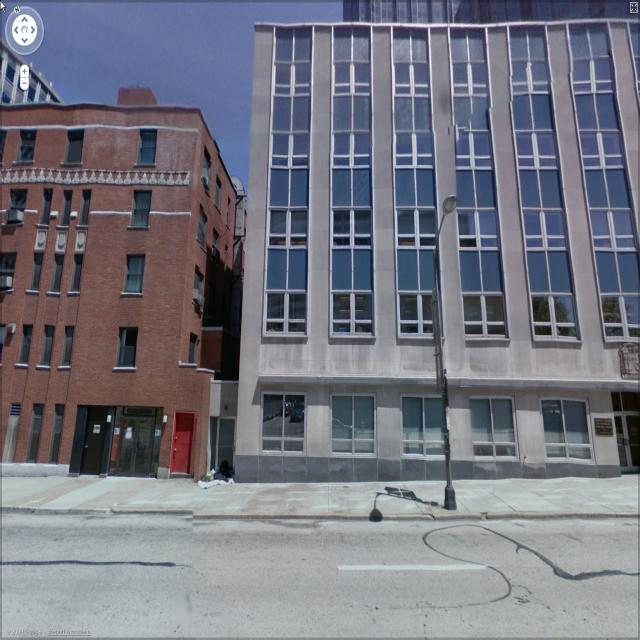window: (541, 395, 598, 471), (398, 390, 453, 466), (467, 390, 521, 464), (322, 390, 376, 458), (392, 290, 443, 349), (532, 290, 586, 345), (260, 395, 308, 455), (520, 202, 572, 256), (458, 292, 506, 350), (330, 282, 378, 340), (261, 288, 311, 342), (452, 198, 501, 253), (588, 204, 638, 257), (599, 287, 640, 345), (392, 204, 444, 248), (327, 210, 377, 252), (329, 61, 379, 101), (116, 250, 152, 302), (389, 63, 437, 102), (268, 210, 312, 251), (508, 60, 552, 101), (577, 133, 625, 170), (512, 134, 564, 168), (570, 54, 614, 92), (451, 61, 491, 101), (124, 188, 158, 233), (271, 132, 311, 170), (393, 132, 435, 168), (452, 135, 494, 171), (273, 62, 315, 98), (329, 134, 375, 166), (116, 326, 142, 376), (11, 128, 41, 170), (58, 126, 84, 170), (132, 128, 161, 166)
